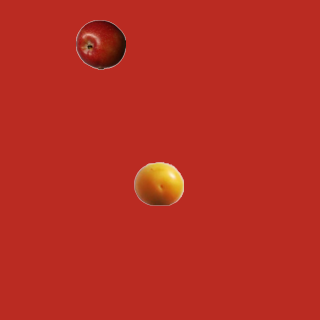Apple Braeburn: (75, 19, 125, 69)
Cherry Wax Yellow: (133, 158, 183, 208)
